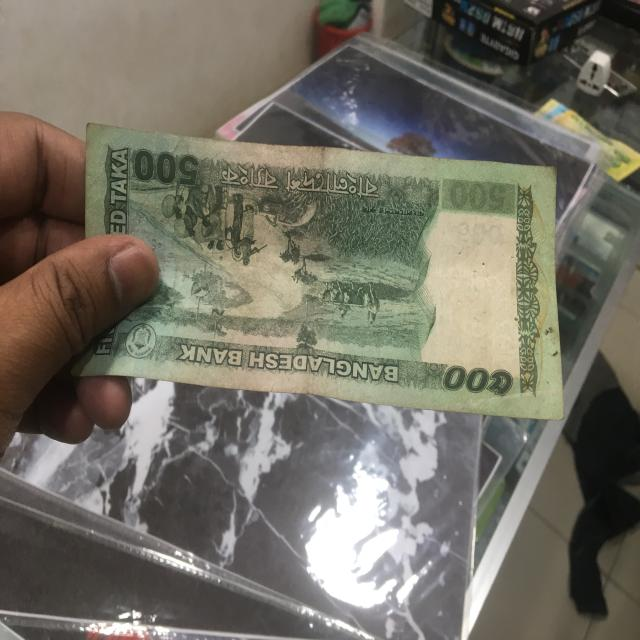Taka: (84, 120, 567, 423)
